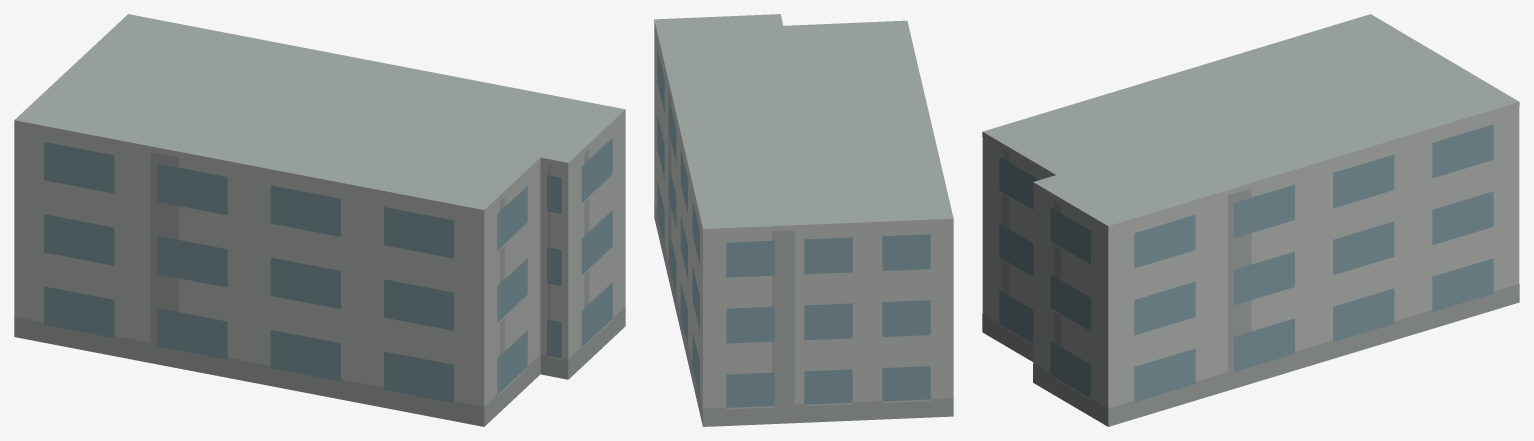
The model's file is residential-9fe7904d-0c7b-42a5-bcb9-7ceacd863e66.glb.
The picture shows the model from 3 angles, left to right: view 1: azimuth 30°, elevation 25°; view 2: azimuth 150°, elevation 25°; view 3: azimuth 270°, elevation 25°; orthographic projection. The views are drawn at different scales.
Visible parts, largest first — view 1: residential-9fe7904d-0c7b-42a5-bcb9-7ceacd863e66.tmp; view 2: residential-9fe7904d-0c7b-42a5-bcb9-7ceacd863e66.tmp; view 3: residential-9fe7904d-0c7b-42a5-bcb9-7ceacd863e66.tmp.
Boxes of the visible parts, box(x1,y1,x2,y2) form: residential-9fe7904d-0c7b-42a5-bcb9-7ceacd863e66.tmp: box(14, 14, 625, 426); residential-9fe7904d-0c7b-42a5-bcb9-7ceacd863e66.tmp: box(654, 14, 953, 426); residential-9fe7904d-0c7b-42a5-bcb9-7ceacd863e66.tmp: box(982, 14, 1519, 426).
Size of the model in its own units: 20.76 by 9.15 by 22.2.
